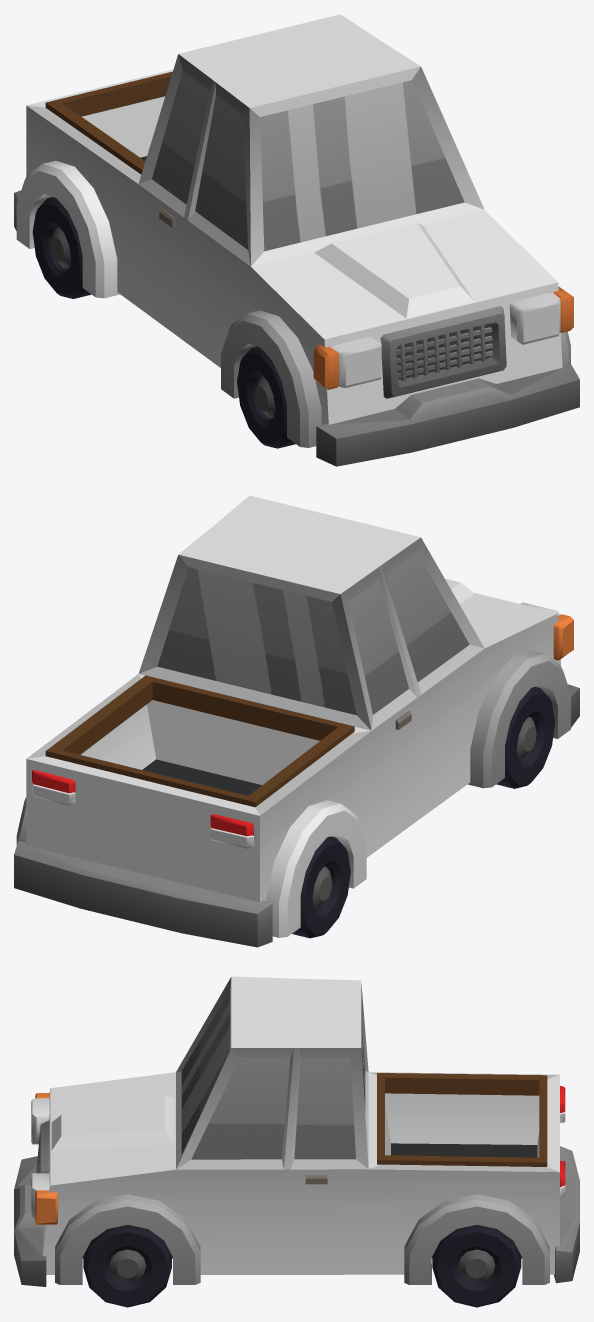
Rendered from PickUp_18.glb.
The picture shows the model from 3 angles, top to bottom: view 1: azimuth 30°, elevation 25°; view 2: azimuth 150°, elevation 25°; view 3: azimuth 270°, elevation 25°; orthographic projection. The views are drawn at different scales.
Parts seen in each view (by area): view 1: PickUp_18, BWhel_BR, BWhel_FR; view 2: PickUp_18, BWhel_BR, BWhel_FR; view 3: PickUp_18, BWhel_BL, BWhel_FL.
Part boxes in pixels (x1,y1,x2,y2): PickUp_18: (14,14,579,466); BWhel_BR: (32,197,91,298); BWhel_FR: (237,346,295,448); PickUp_18: (14,495,579,947); BWhel_BR: (292,836,350,938); BWhel_FR: (496,687,554,788); PickUp_18: (14,976,579,1286); BWhel_BL: (432,1225,521,1307); BWhel_FL: (83,1225,171,1307).
Bounding box in the file's own units: 1.09 × 1.08 × 2.3.
Materials: 6 (6 with a texture image).
